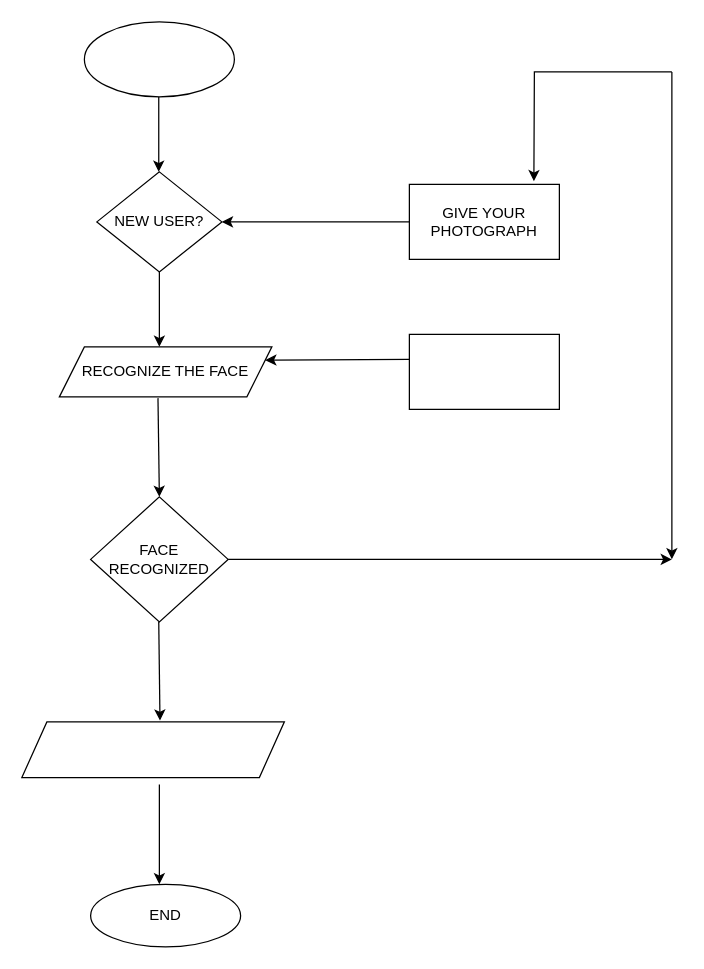
The diagram is 704 pixels wide and 969 high, and some of its shapes have lost their labels. The centre of each missing label's shape, as x and y in pixels:
"START" goes at (158,59).
"STORE THE FACE DATA IN FOLDER ON YOUR NAME" goes at (483,371).
"STORED IN THE CSV FILE WITH REGISTRATION NO & DATE TIME OF ENTRY" goes at (152,749).
